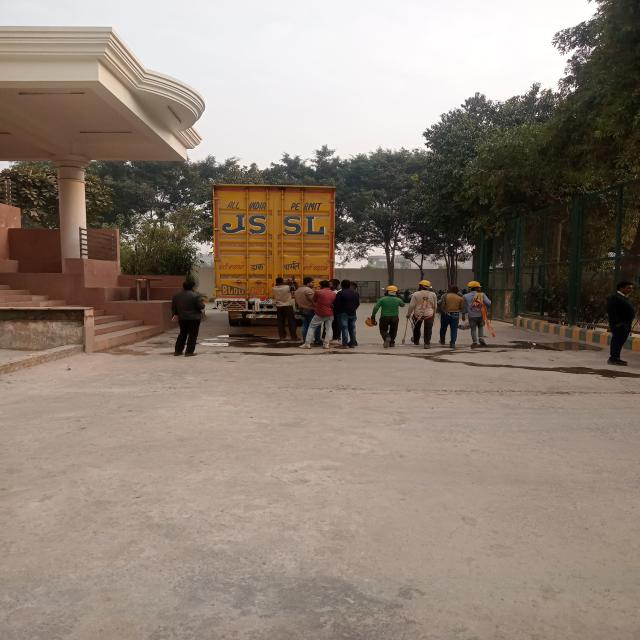no jacket: (459, 280, 495, 350), (403, 280, 439, 348), (376, 285, 403, 353)
unsafe: (604, 279, 640, 367), (174, 278, 208, 359), (270, 276, 296, 344), (439, 282, 461, 349)
